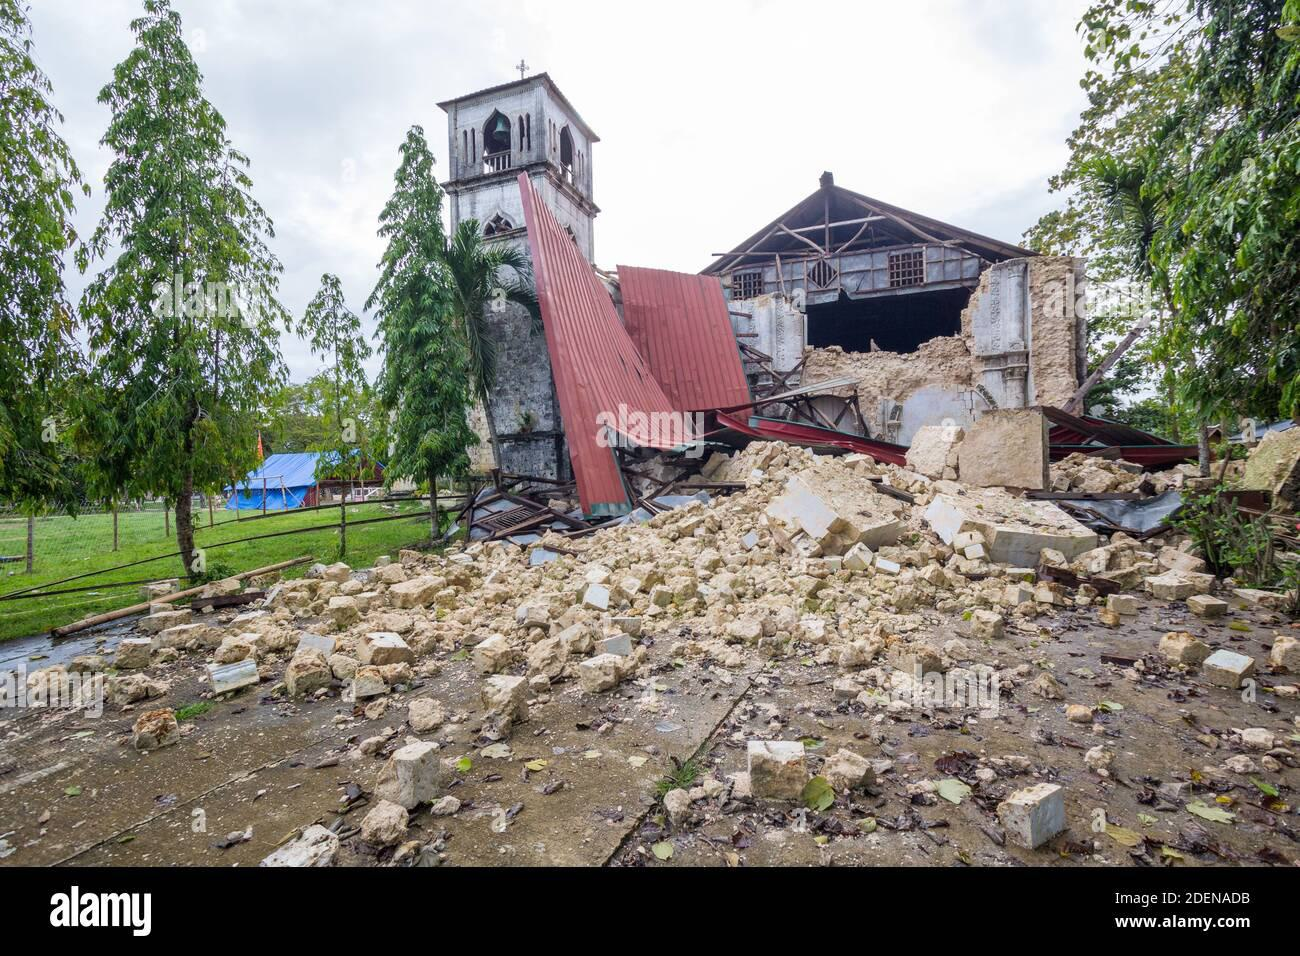sagging_roof: (662, 165, 1063, 348)
